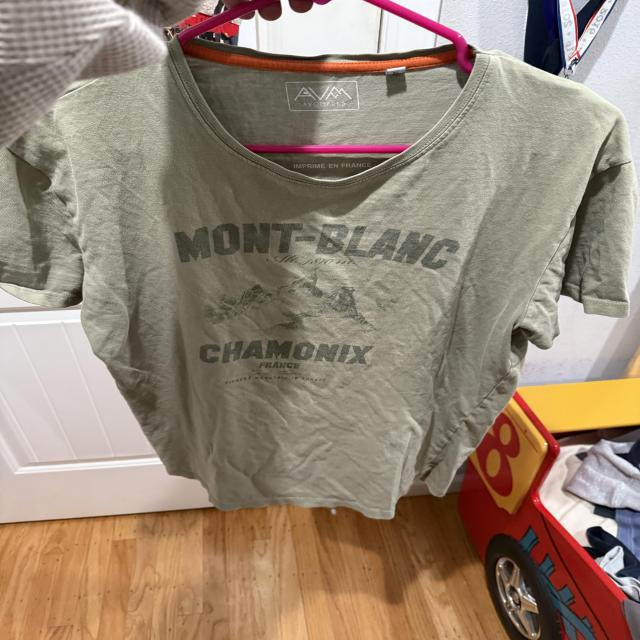back_tag: (282, 81, 366, 114)
